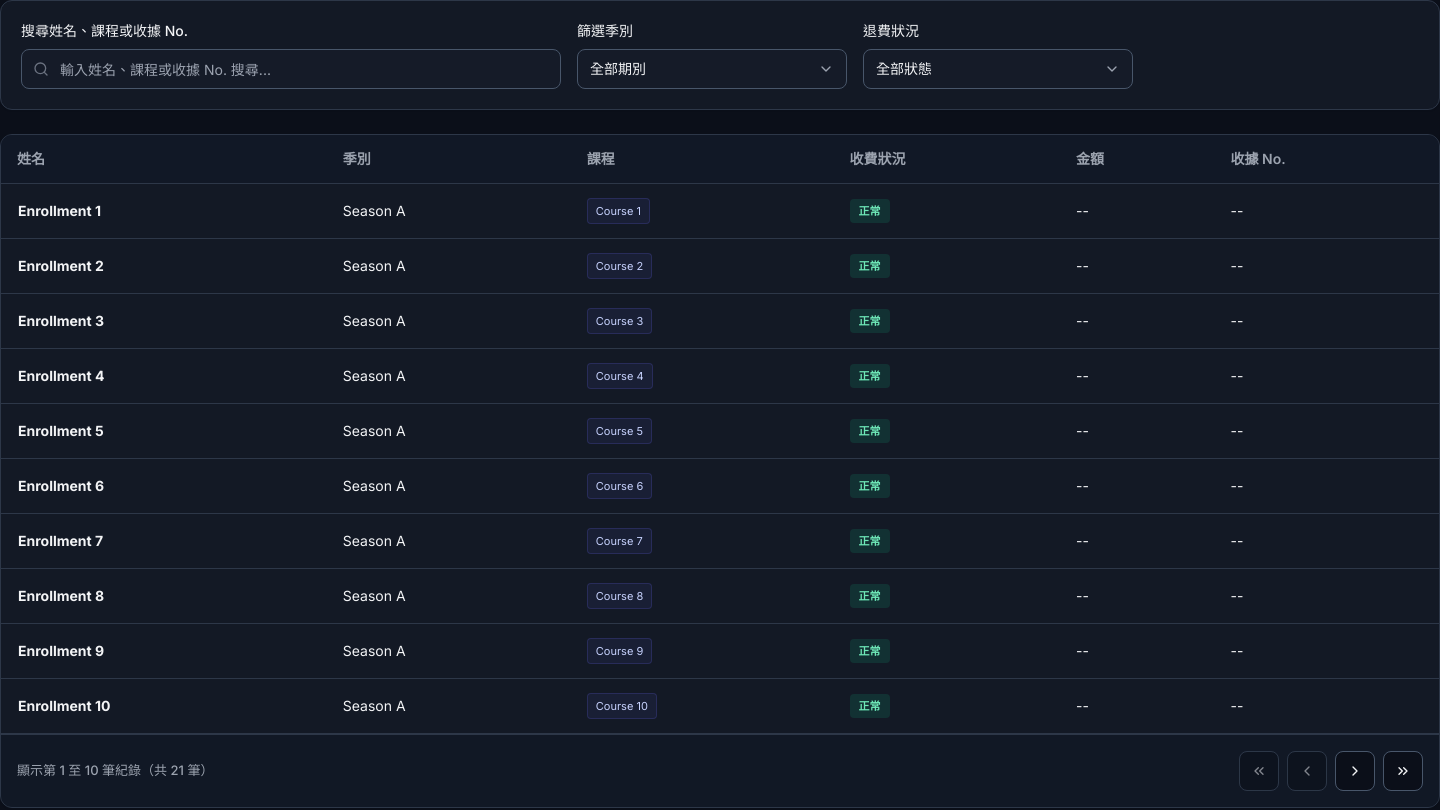
it: EnrollmentTab › jumps directly between the first and last enrollment pages
The width and height of the screenshot is (1440, 810).
Expected: the button named "跳至最前頁" is disabled, [1239,751,1279,791]
What coordinates should you click on to do the following:
click the button named "跳至最尾頁"
I would click on:
 (1403, 771)
Its box is [1383,751,1423,791].
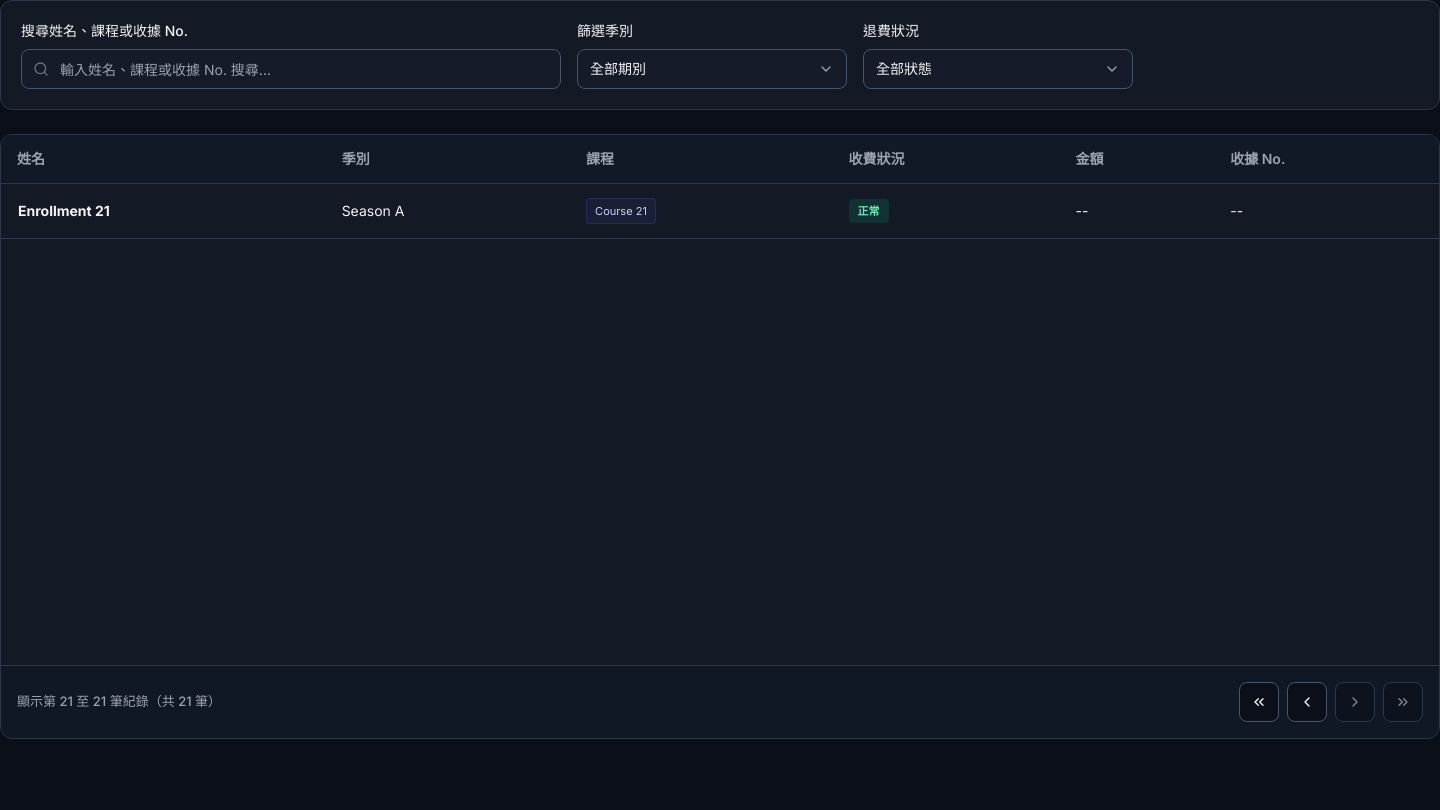
Now the button "Enrollment 21" is shown, box [17,200,111,222]
Now the button "Enrollment 1" is gone
Now the button named "跳至最前頁" is enabled
What coordinates should you click on to do the following:
click the button named "跳至最前頁"
I would click on:
 (1259, 702)
Its box is [1239,682,1279,722].
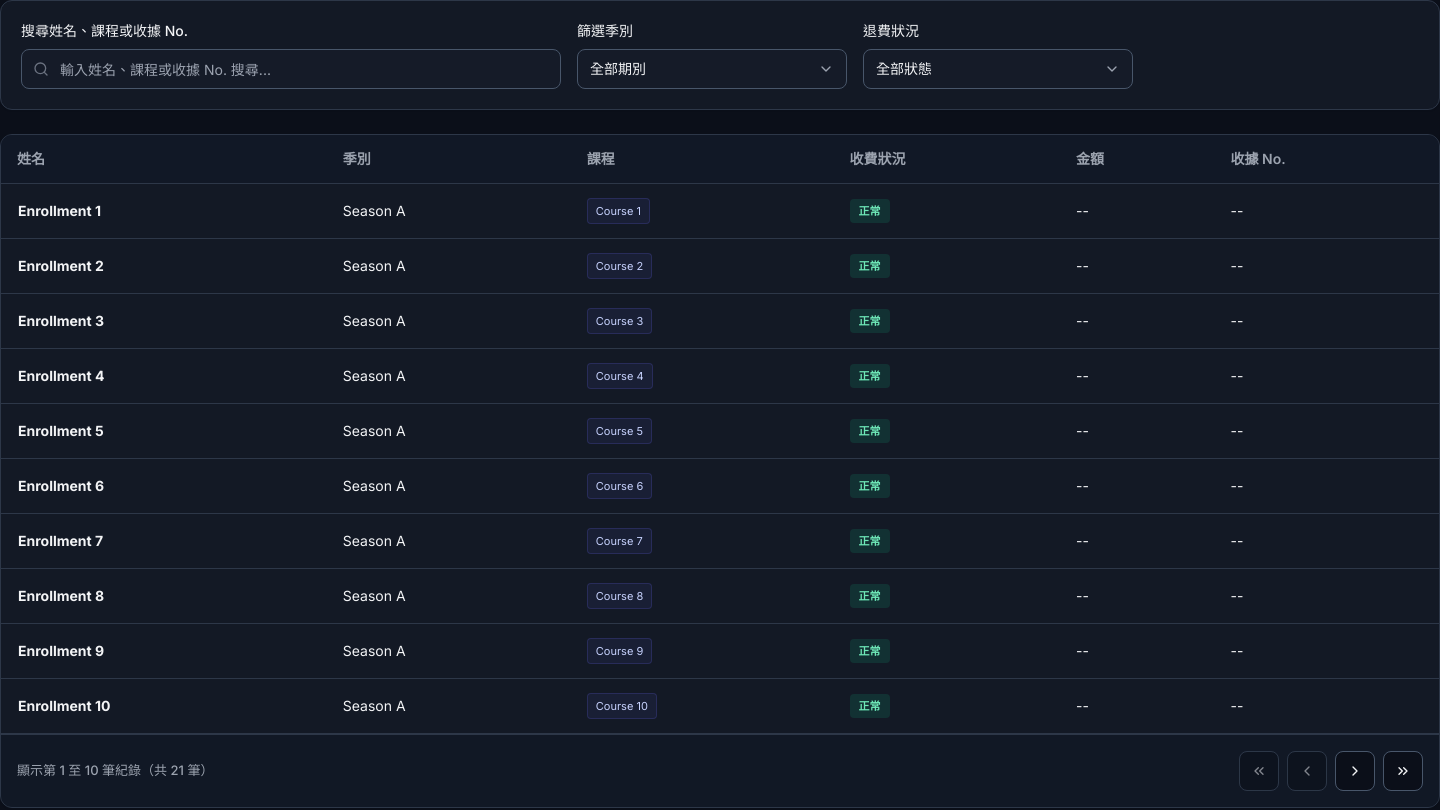
Now the button "Enrollment 1" is shown, box [17,200,102,222]
Now the button "Enrollment 21" is gone
Now the button named "跳至最前頁" is disabled, box [1239,751,1279,791]
